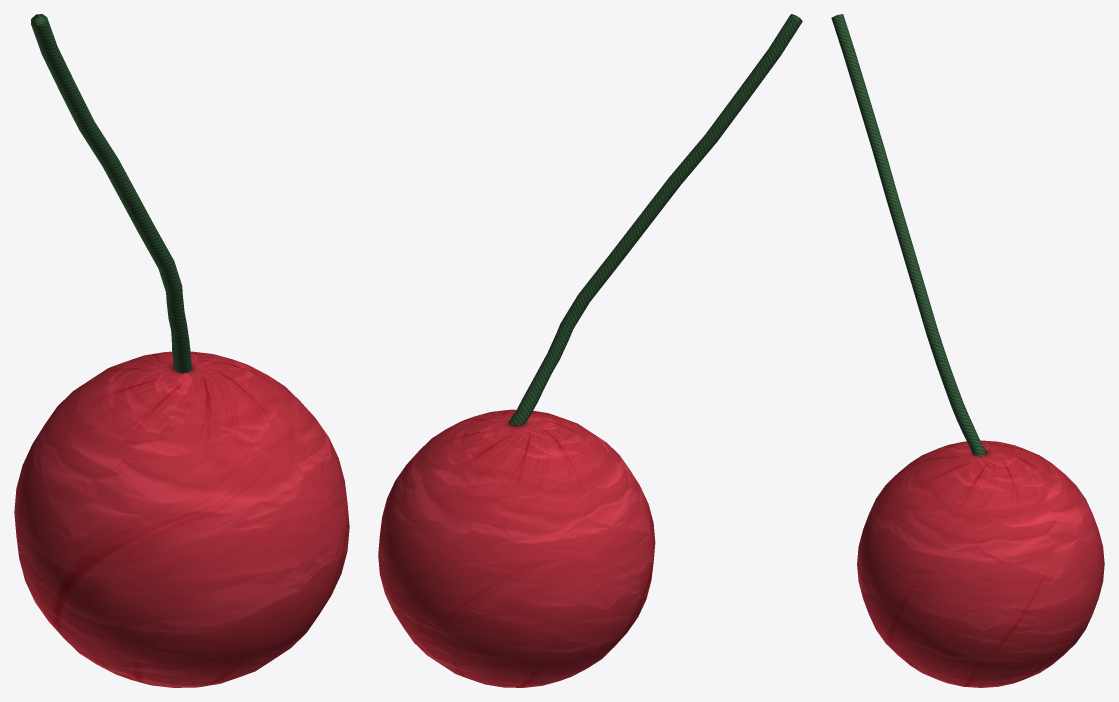
File: bomb3.fbx
3 views of the same model, side by side, from view 1: azimuth 30°, elevation 25°; view 2: azimuth 150°, elevation 25°; view 3: azimuth 270°, elevation 25° (orthographic). The views are drawn at different scales.
Parts seen in each view (by area): view 1: polySurface1, polySurface2; view 2: polySurface1, polySurface2; view 3: polySurface1, polySurface2.
Part boxes in pixels (x1=…): polySurface1: x1=14, y1=351, x2=349, y2=687; polySurface2: x1=31, y1=14, x2=192, y2=373; polySurface1: x1=378, y1=409, x2=655, y2=687; polySurface2: x1=509, y1=14, x2=802, y2=425; polySurface1: x1=857, y1=440, x2=1104, y2=687; polySurface2: x1=831, y1=14, x2=985, y2=456.
Size of the model in its own units: 10.78 by 20.57 by 8.83.
1 material, 1 textured.
